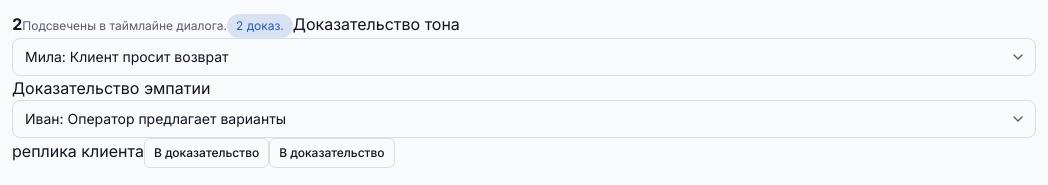
Test: evidence draft state › clears sticky focus after the evidence select blurs so a later full-slots click toasts
The image size is (1048, 185).
Step 1. Click the 1st button "В доказательство" → (207, 153), box [144,138,269,168]
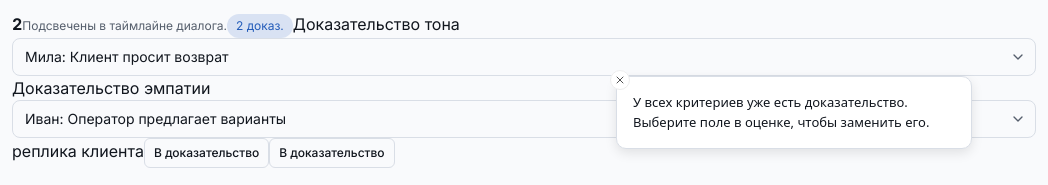
Expected: the dropdown labelled "Доказательство тона" shows "Мила: Клиент просит возврат", [12,38,1036,76]
Expected: the text "У всех критериев уже есть доказательство. Выберите поле в оценке, чтобы заменить его." is shown, [633,93,929,130]
